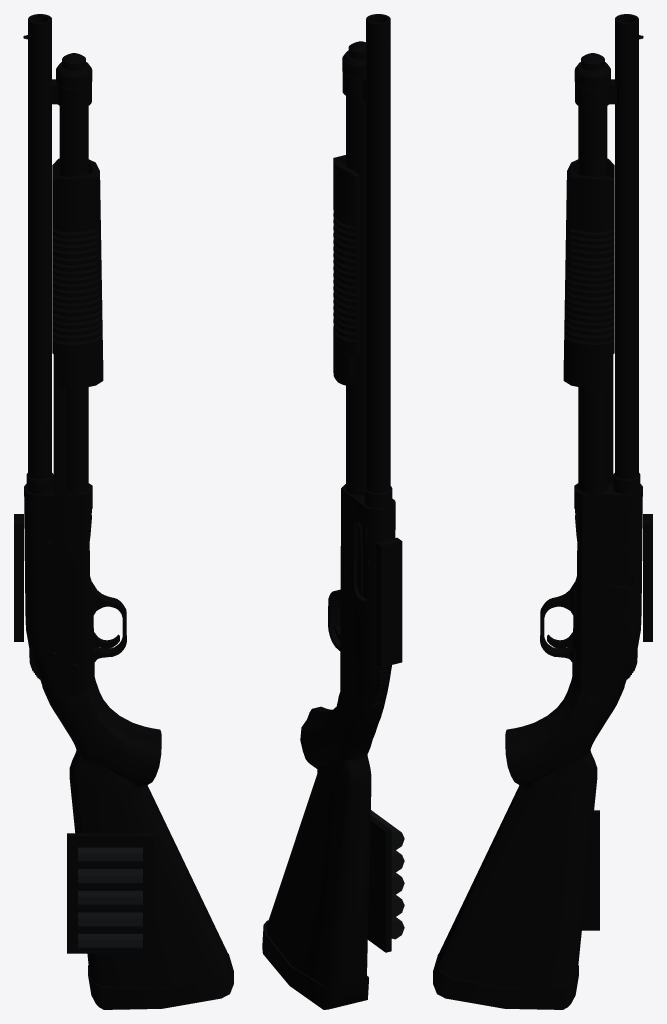
Rendered from M590__Mount_ScopeBase__ShellHolder_Butt.fbx.
3 views of the same model, side by side, from view 1: azimuth 90°, elevation 25°; view 2: azimuth 210°, elevation 25°; view 3: azimuth 270°, elevation 25° (orthographic). The views are drawn at different scales.
Parts seen in each view (by area): view 1: asset_M590.001; view 2: asset_M590.001; view 3: asset_M590.001.
Boxes of the visible parts, box(x1,y1,x2,y2) form: asset_M590.001: box(14, 14, 233, 1009); asset_M590.001: box(262, 14, 404, 1009); asset_M590.001: box(433, 14, 652, 1009).
Bounding box in the file's own units: 0.0447 × 0.6 × 0.1218.
